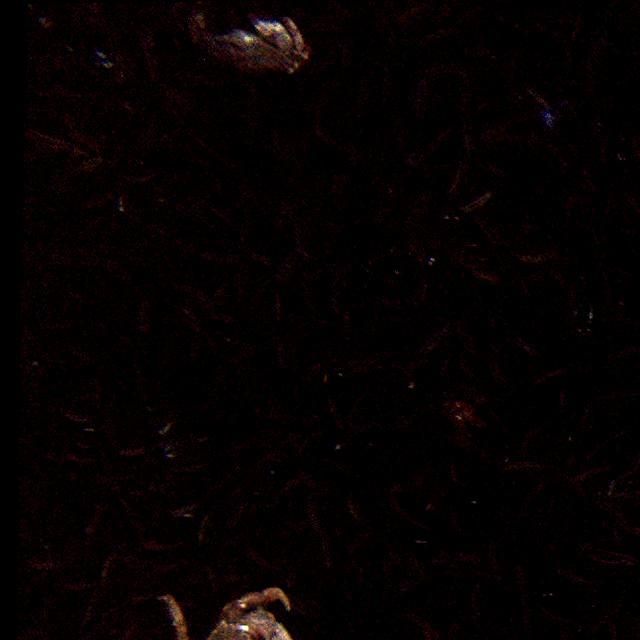crab: (186, 13, 312, 81), (155, 587, 297, 640)
